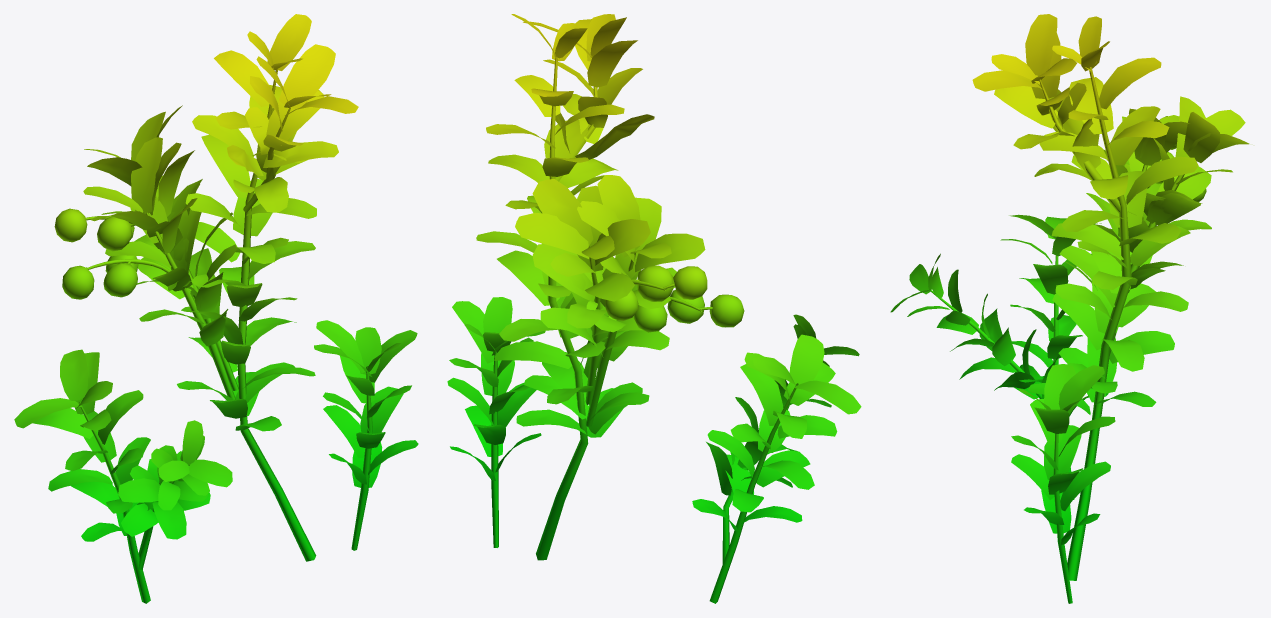
The model's file is Lingonberry_LOD1_Var8_wjhjahlqx.fbx.
3 views of the same model, side by side, from view 1: azimuth 30°, elevation 25°; view 2: azimuth 150°, elevation 25°; view 3: azimuth 270°, elevation 25° (orthographic). The views are drawn at different scales.
Parts seen in each view (by area): view 1: _ixvw_Var8_LOD1; view 2: _ixvw_Var8_LOD1; view 3: _ixvw_Var8_LOD1.
Boxes of the visible parts, x1,y1,x2,y2 form: _ixvw_Var8_LOD1: (14,14,418,603); _ixvw_Var8_LOD1: (447,14,861,603); _ixvw_Var8_LOD1: (890,14,1249,603).
Bounding box in the file's own units: 13.79 × 17.92 × 10.95.
